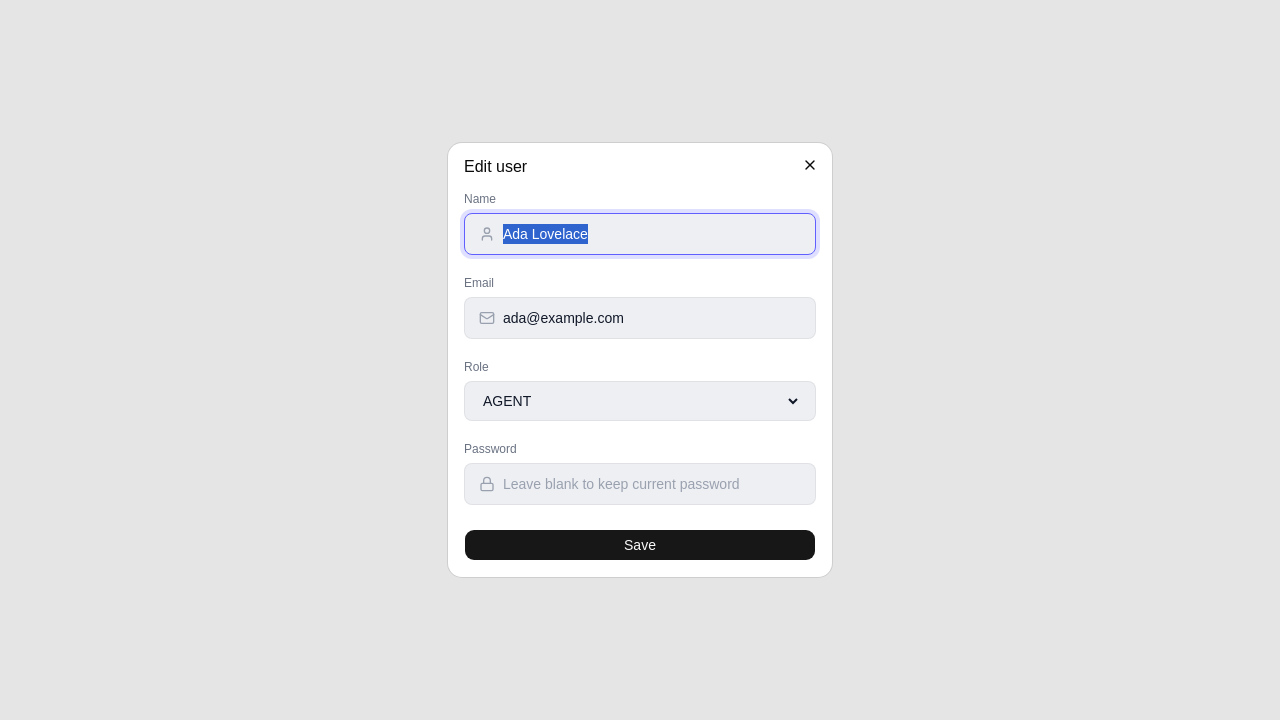
EditUserModal › shows a validation error for a too-short password instead of submitting
In the password field labelled "Password": (652, 484) [503,474,801,494], type "short"
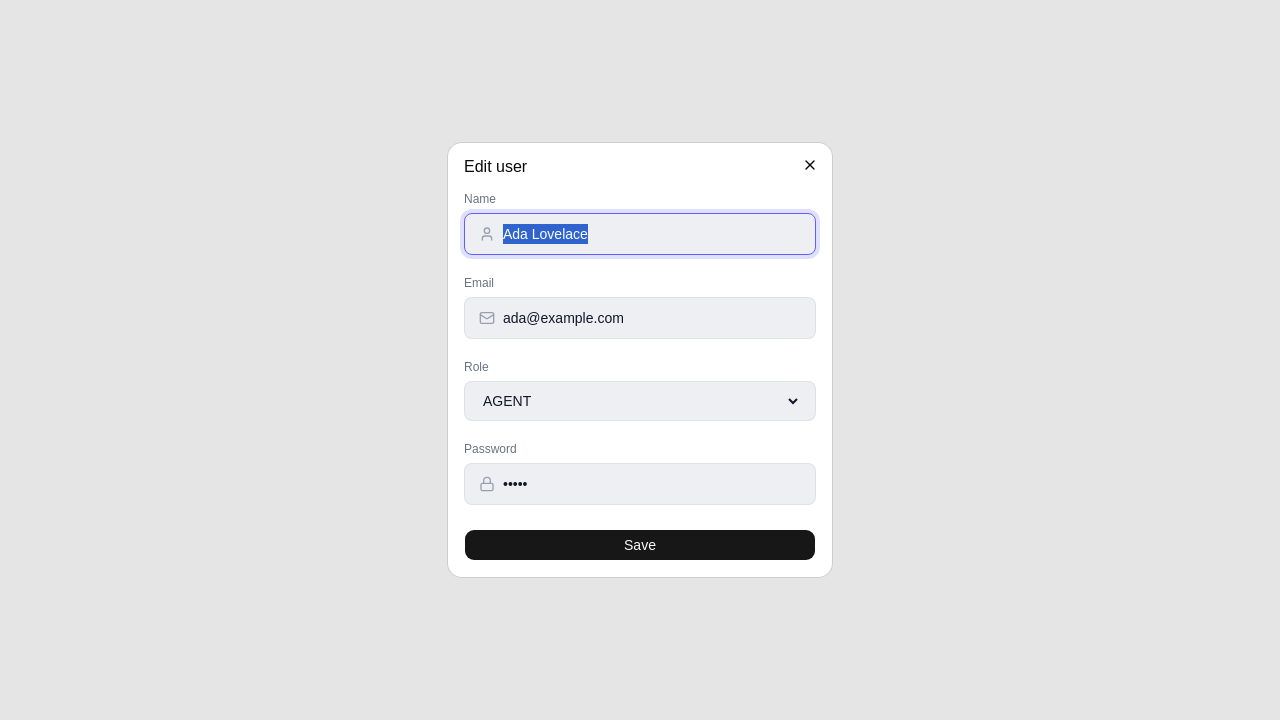
Click the button "Save": (640, 545) [464,529,816,561]
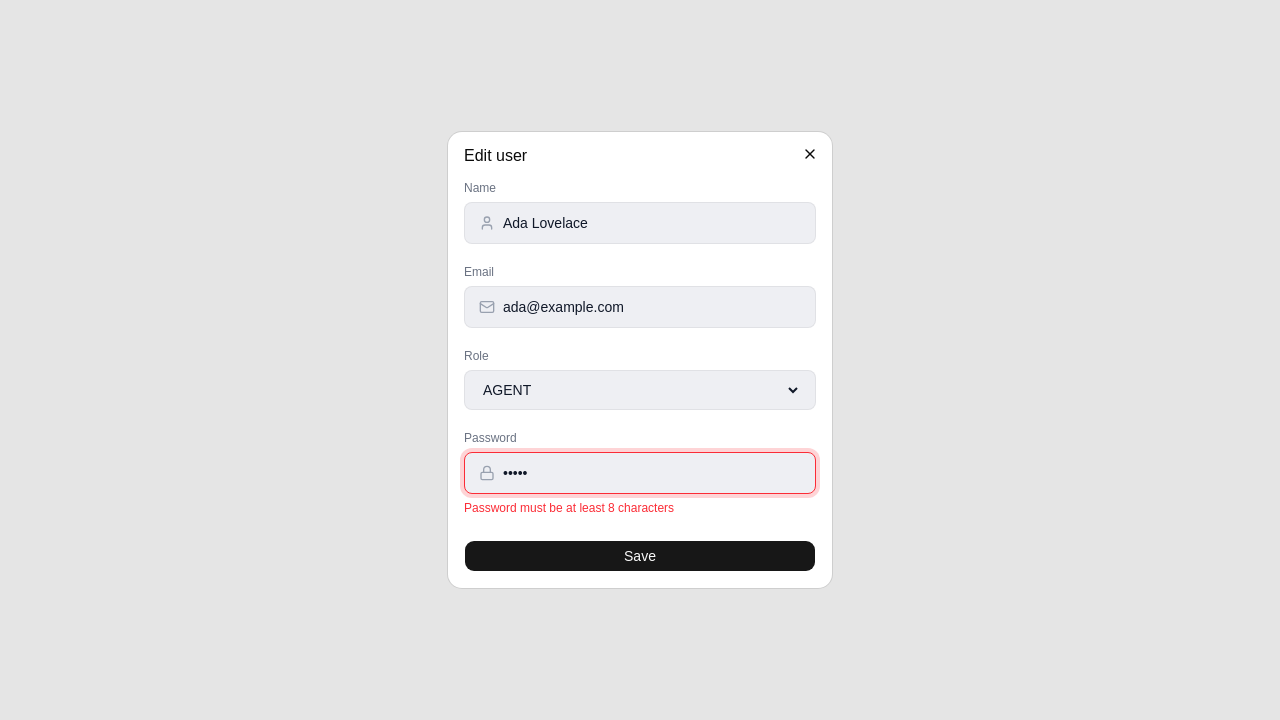
Expected: the text "Password must be at least 8 characters" is shown, [464,501,674,515]
